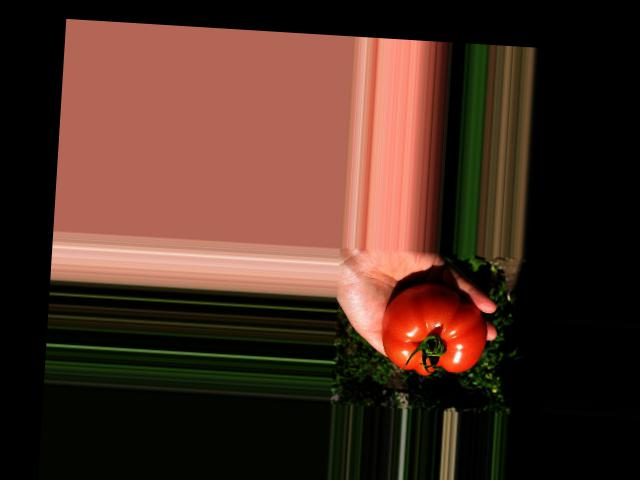tomato: (380, 281, 490, 378)
